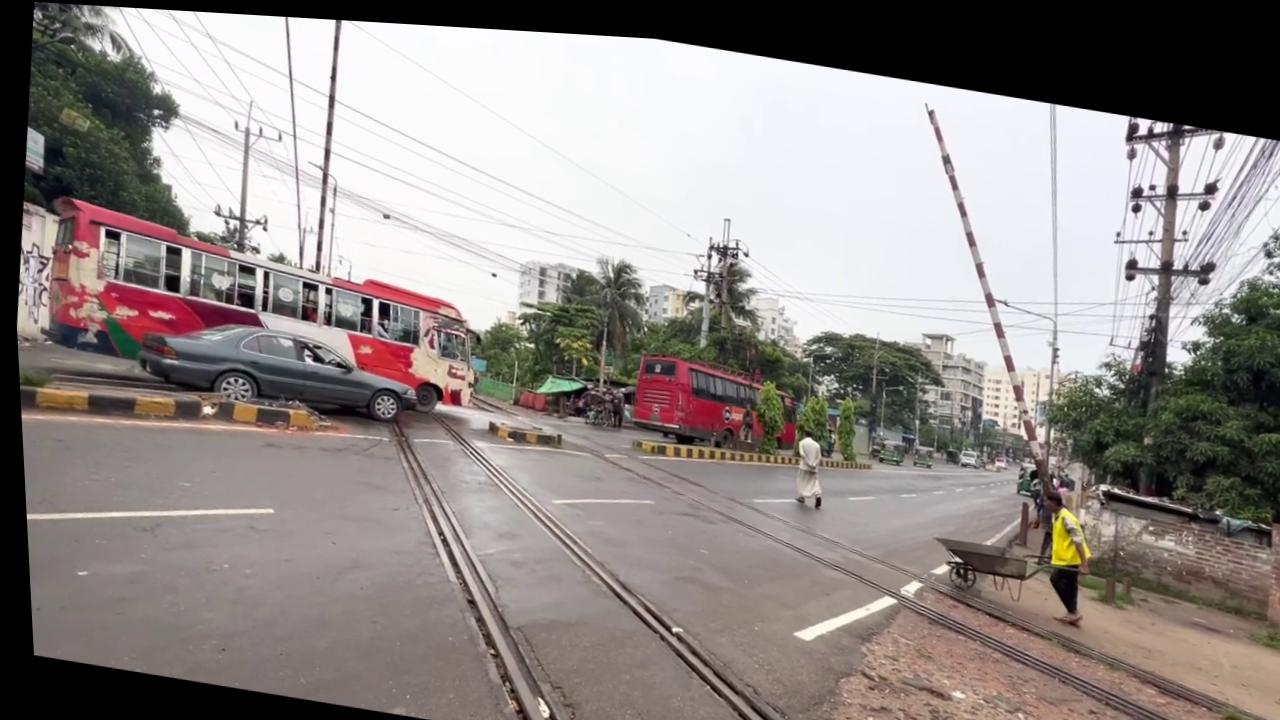Bollard: (127, 304, 420, 424)
Broken-road: (625, 413, 870, 479)
Downstairs: (921, 519, 1050, 593)
Fence: (1023, 474, 1095, 614), (784, 415, 824, 499)
Garbage: (885, 89, 1085, 485), (1082, 99, 1240, 491), (300, 14, 356, 272)
Motorcycle: (352, 393, 883, 720)
Railroad-crossing: (565, 241, 653, 384)
Rickshaw: (623, 338, 801, 452)
